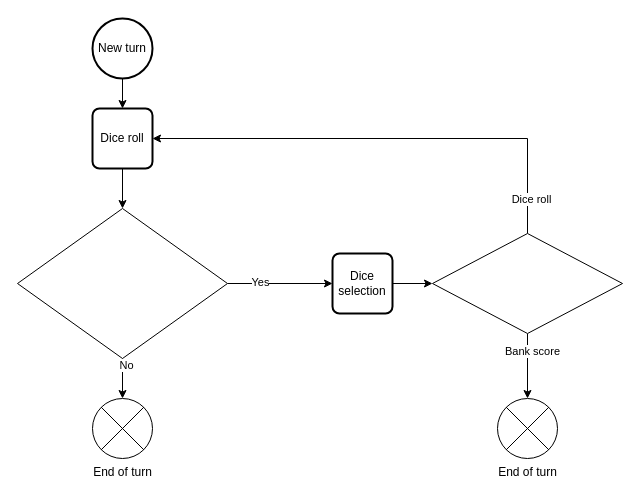
Some shapes in this 640 by 496 pixel diagram are drawn without their labels. The centre of each missing label's shape, as x and y in pixels:
New dice roll or bank score ?: pixel 527 283
The dice roll contains at least a "1" or a "5" or any triple combination: pixel 122 283
